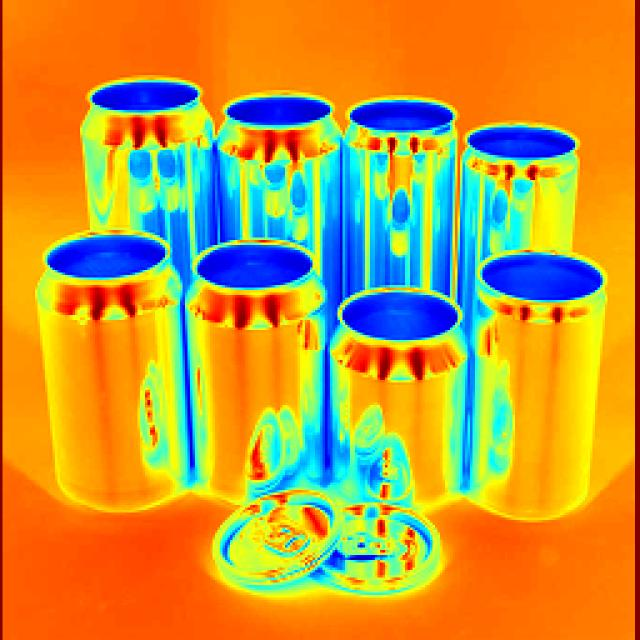Aluminium Food Cans: (50, 228, 187, 538), (325, 278, 493, 503), (195, 241, 334, 498), (470, 257, 602, 526), (335, 69, 464, 294), (65, 72, 211, 262), (211, 80, 345, 273), (455, 98, 580, 260)
